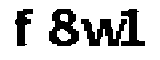1: (122, 2, 149, 54)
8: (44, 5, 81, 50)
f: (9, 7, 36, 48)
w: (80, 17, 122, 51)
